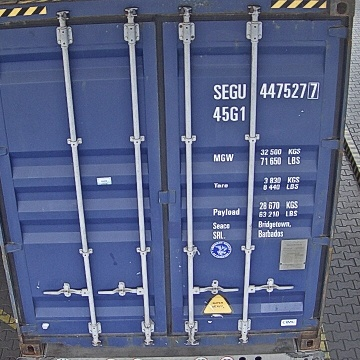serial_id: (213, 82, 319, 98)
